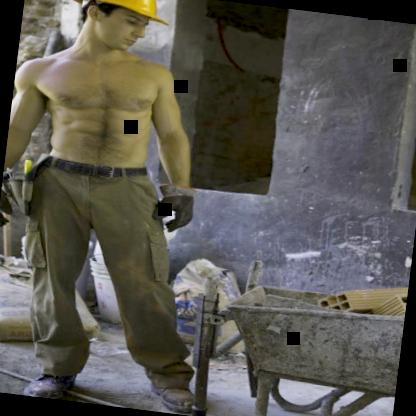helmet: (63, 0, 176, 54)
